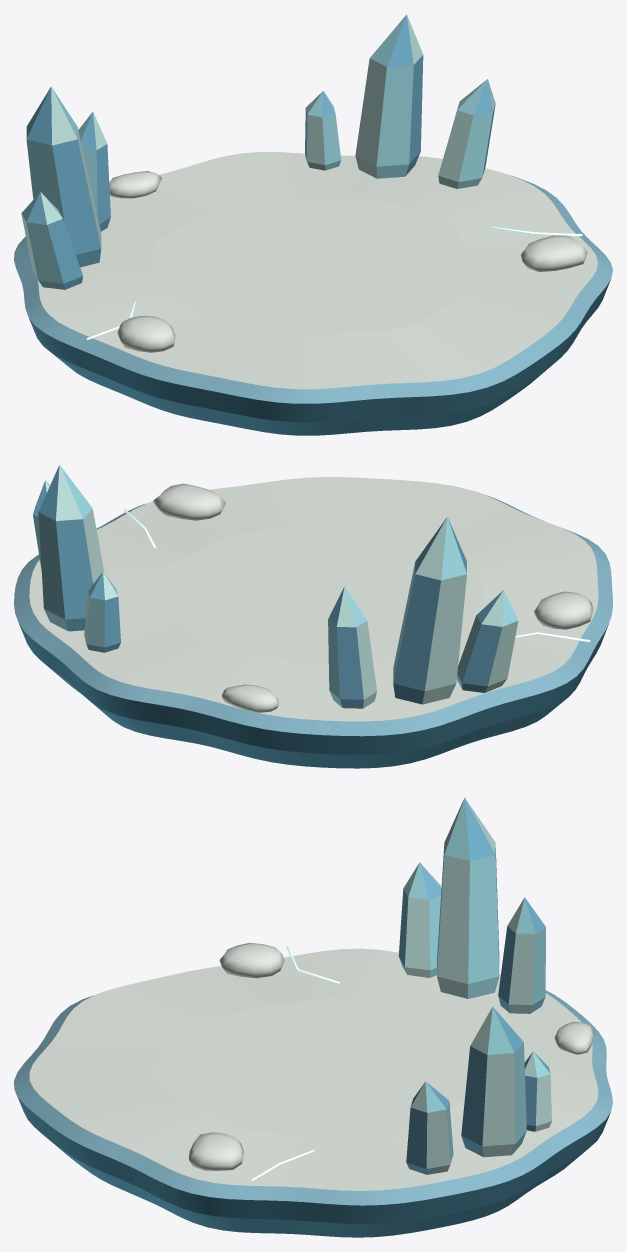
The model's file is glacier.glb.
The picture shows the model from 3 angles, top to bottom: view 1: azimuth 30°, elevation 25°; view 2: azimuth 150°, elevation 25°; view 3: azimuth 270°, elevation 25°; orthographic projection.
Parts seen in each view (by area): view 1: Habitat_glacier_glacier_snow.001, Habitat_glacier_glacier_deep_ice.001, Habitat_glacier_glacier_edge.001, Habitat_glacier_glacier_crystal_a.001, Habitat_glacier_glacier_crystal_b.001, Habitat_glacier_glacier_crystal_c.001; view 2: Habitat_glacier_glacier_snow.001, Habitat_glacier_glacier_deep_ice.001, Habitat_glacier_glacier_crystal_b.001, Habitat_glacier_glacier_edge.001, Habitat_glacier_glacier_crystal_c.001, Habitat_glacier_glacier_crystal_a.001; view 3: Habitat_glacier_glacier_snow.001, Habitat_glacier_glacier_deep_ice.001, Habitat_glacier_glacier_crystal_c.001, Habitat_glacier_glacier_edge.001, Habitat_glacier_glacier_crystal_a.001, Habitat_glacier_glacier_crystal_b.001.
Part boxes in pixels (box(x1,y1,x2,y2)): Habitat_glacier_glacier_snow.001: box(37, 152, 597, 389); Habitat_glacier_glacier_deep_ice.001: box(19, 276, 610, 435); Habitat_glacier_glacier_edge.001: box(14, 175, 612, 403); Habitat_glacier_glacier_crystal_a.001: box(21, 15, 492, 289); Habitat_glacier_glacier_crystal_b.001: box(26, 15, 495, 289); Habitat_glacier_glacier_crystal_c.001: box(21, 14, 495, 279); Habitat_glacier_glacier_snow.001: box(29, 477, 598, 721); Habitat_glacier_glacier_deep_ice.001: box(19, 624, 608, 768); Habitat_glacier_glacier_crystal_b.001: box(33, 465, 503, 708); Habitat_glacier_glacier_edge.001: box(14, 492, 612, 736); Habitat_glacier_glacier_crystal_c.001: box(45, 465, 518, 708); Habitat_glacier_glacier_crystal_a.001: box(33, 465, 518, 707); Habitat_glacier_glacier_snow.001: box(29, 942, 598, 1190); Habitat_glacier_glacier_deep_ice.001: box(15, 1091, 610, 1237); Habitat_glacier_glacier_crystal_c.001: box(403, 798, 551, 1174); Habitat_glacier_glacier_edge.001: box(14, 990, 612, 1205); Habitat_glacier_glacier_crystal_a.001: box(408, 798, 550, 1163); Habitat_glacier_glacier_crystal_b.001: box(398, 798, 550, 1174).
Size of the model in its own units: 6.35 by 2.74 by 6.3.
